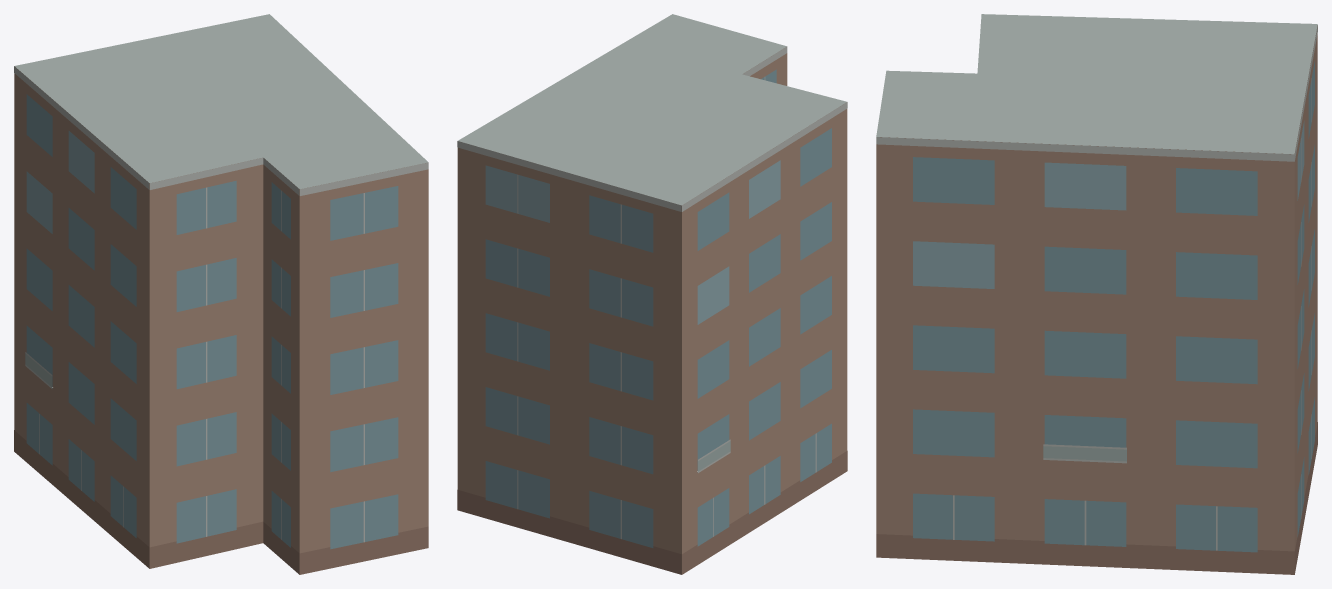
File: survey-upis-33013948.glb
3 renders of one model, left to right at view 1: azimuth 30°, elevation 25°; view 2: azimuth 150°, elevation 25°; view 3: azimuth 270°, elevation 25°, orthographic. The views are drawn at different scales.
Parts seen in each view (by area): view 1: survey-upis-33013948.tmp; view 2: survey-upis-33013948.tmp; view 3: survey-upis-33013948.tmp.
Boxes of the visible parts, x1,y1,x2,y2 form: survey-upis-33013948.tmp: (14, 14, 428, 574); survey-upis-33013948.tmp: (457, 14, 847, 574); survey-upis-33013948.tmp: (876, 14, 1317, 574).
Size of the model in its own units: 9.73 by 13.6 by 12.95.
